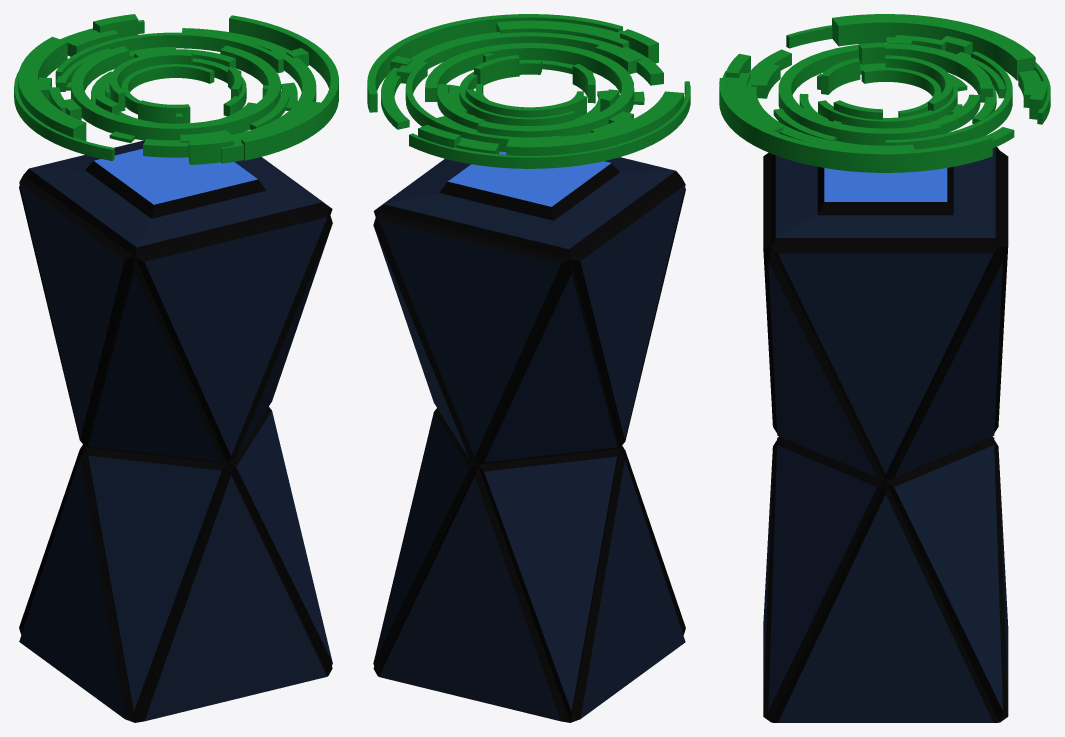
File: parametric_arc.FBX
3 views of the same model, side by side, from view 1: azimuth 30°, elevation 25°; view 2: azimuth 150°, elevation 25°; view 3: azimuth 270°, elevation 25° (orthographic). The views are drawn at different scales.
Visible parts, largest first — view 1: Pedestal001, Arc_circle; view 2: Pedestal001, Arc_circle; view 3: Pedestal001, Arc_circle.
Part boxes in pixels (left/top/right/bottom): Pedestal001: left=19, top=140, right=332, bottom=722; Arc_circle: left=14, top=14, right=338, bottom=164; Pedestal001: left=373, top=151, right=685, bottom=722; Arc_circle: left=367, top=14, right=690, bottom=168; Pedestal001: left=763, top=147, right=1008, bottom=722; Arc_circle: left=719, top=14, right=1050, bottom=172.
Size of the model in its own units: 72.66 by 143 by 72.64.
